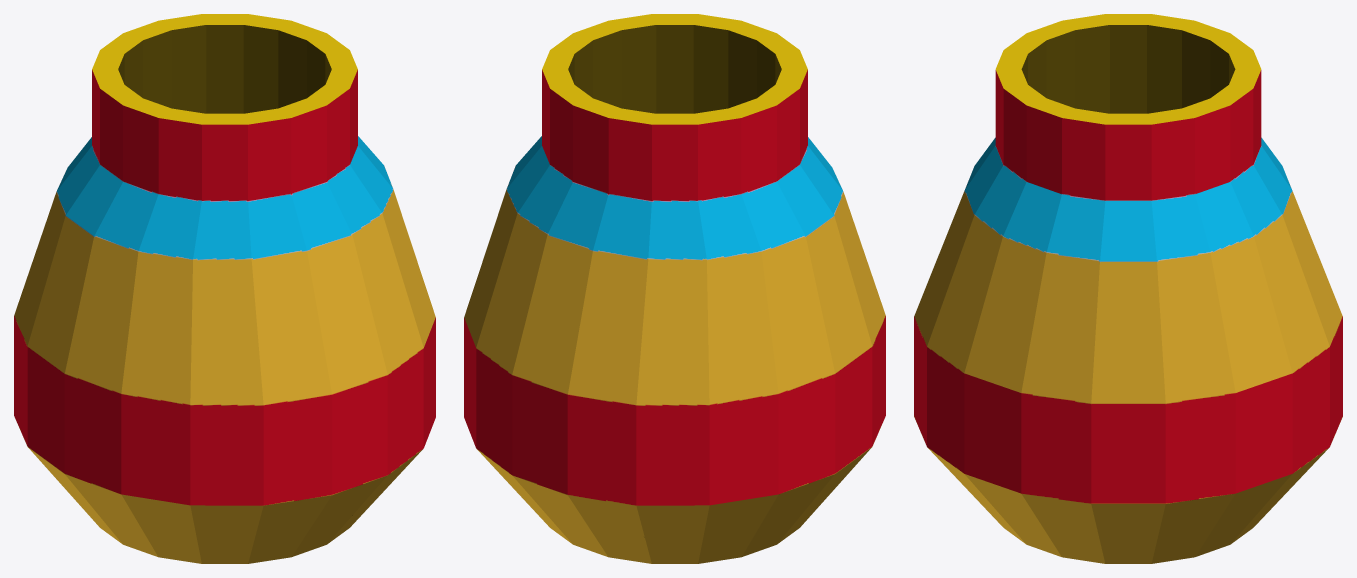
File: Pot.fbx
3 views of the same model, side by side, from view 1: azimuth 30°, elevation 25°; view 2: azimuth 150°, elevation 25°; view 3: azimuth 270°, elevation 25° (orthographic).
Visible parts, largest first — view 1: Cylinder; view 2: Cylinder; view 3: Cylinder.
Part boxes in pixels (x1,y1,x2,y2): Cylinder: (14, 14, 435, 563); Cylinder: (464, 14, 885, 563); Cylinder: (914, 14, 1342, 563).
Size of the model in its own units: 311 by 365 by 322.
1 material, 1 textured.
